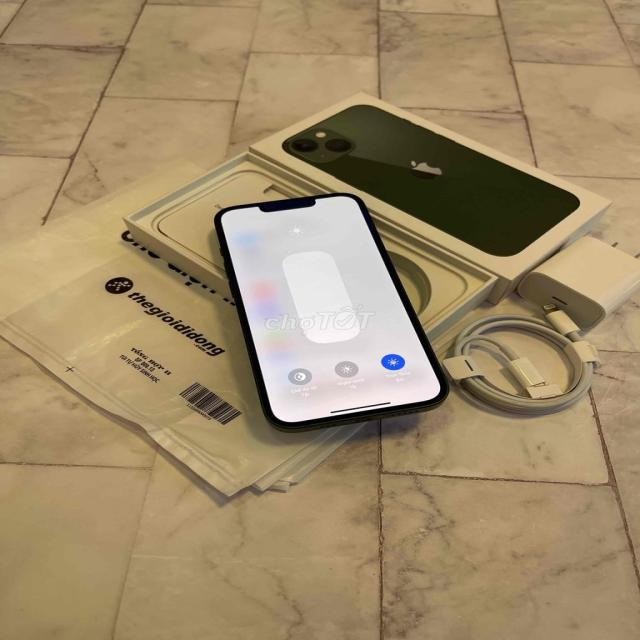gen_12_13: (210, 192, 453, 434)
